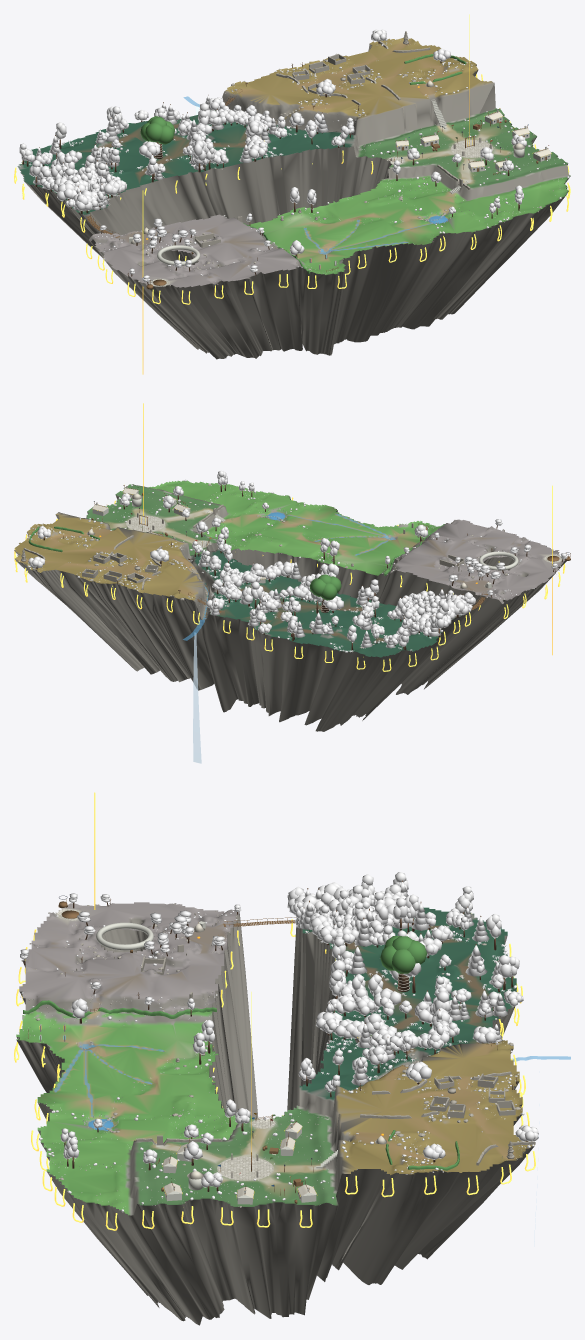
The model's file is ervane.glb.
3 renders of one model, top to bottom at view 1: azimuth 30°, elevation 25°; view 2: azimuth 150°, elevation 25°; view 3: azimuth 270°, elevation 25°, orthographic. The views are drawn at different scales.
Parts seen in each view (by area): view 1: mo_sol_jeu, mo_falaise_jeu, mo_objets_reunis, mo_agrafes_reunies, mo_lignes_reunis, mo_eau_reunis, mo_sol_pave_0; view 2: mo_sol_jeu, mo_falaise_jeu, mo_objets_reunis, mo_eau_reunis, mo_agrafes_reunies, mo_lignes_reunis, mo_sol_pave_0; view 3: mo_sol_jeu, mo_falaise_jeu, mo_objets_reunis, mo_lignes_reunis, mo_agrafes_reunies, mo_eau_reunis, mo_sol_pave_0.
Part boxes in pixels (box(x1,y1,x2,y2)): mo_sol_jeu: box(18, 37, 570, 287); mo_falaise_jeu: box(21, 43, 570, 359); mo_objets_reunis: box(129, 14, 551, 374); mo_agrafes_reunies: box(14, 67, 570, 304); mo_lignes_reunis: box(84, 41, 470, 273); mo_eau_reunis: box(183, 96, 447, 254); mo_sol_pave_0: box(451, 140, 493, 157); mo_sol_jeu: box(14, 480, 564, 657); mo_falaise_jeu: box(14, 484, 566, 731); mo_objets_reunis: box(21, 403, 570, 655); mo_eau_reunis: box(183, 512, 395, 763); mo_agrafes_reunies: box(14, 490, 565, 671); mo_lignes_reunis: box(23, 504, 488, 612); mo_sol_pave_0: box(126, 515, 165, 531); mo_sol_jeu: box(16, 902, 534, 1215); mo_falaise_jeu: box(16, 902, 534, 1325); mo_objets_reunis: box(28, 792, 515, 1204); mo_lignes_reunis: box(23, 917, 535, 1170); mo_agrafes_reunies: box(14, 913, 535, 1230); mo_eau_reunis: box(54, 1044, 570, 1246); mo_sol_pave_0: box(217, 1156, 273, 1180).
Bounding box in the file's own units: 237 × 134 × 185.
